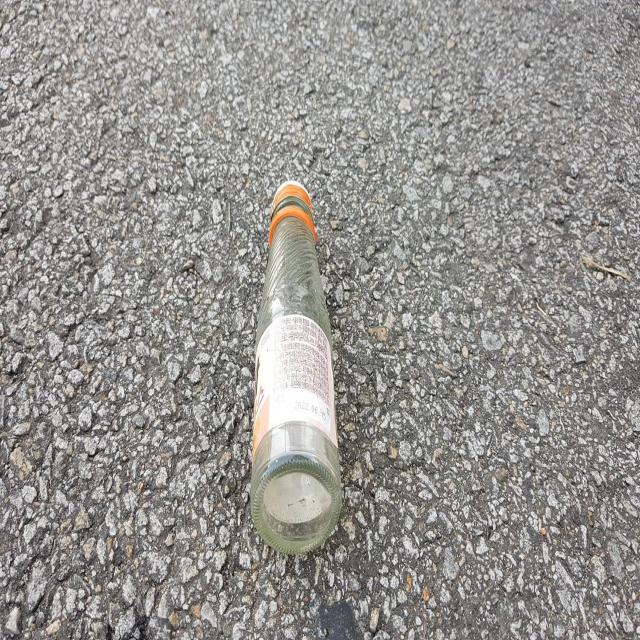glass: (251, 181, 342, 554)
